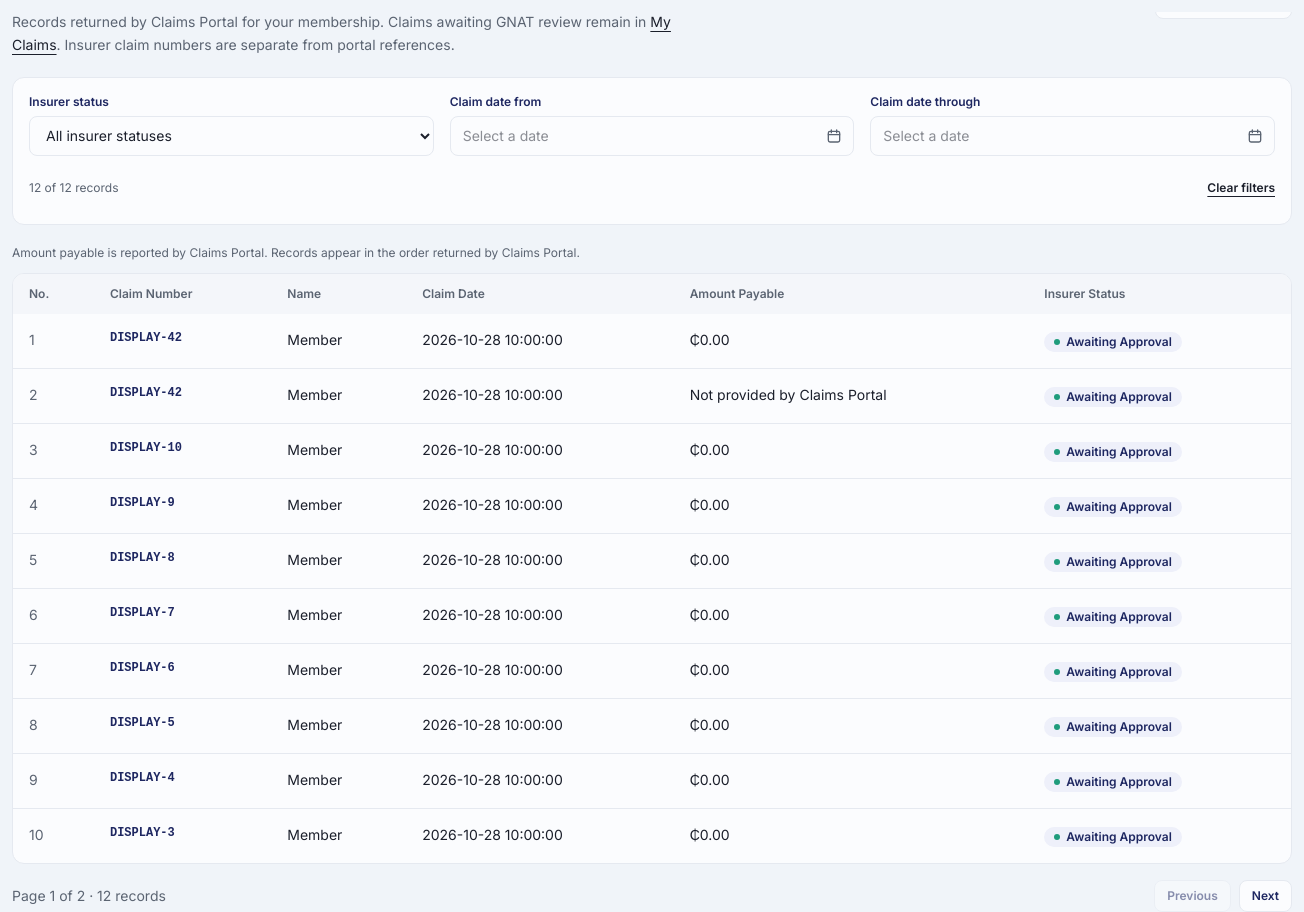
keeps provider ordering, repeated records, zero and null amounts, and numbers across pages
(page scrolled)
Expected: the number of column headings "DISPLAY-42" is 2, [94,314,271,368]; [94,368,271,423]
Expected: the 1st text "₵0.00" is shown, [674,314,1028,368]
Click the button "Next": coordinates (1265, 896) [1239,880,1292,911]
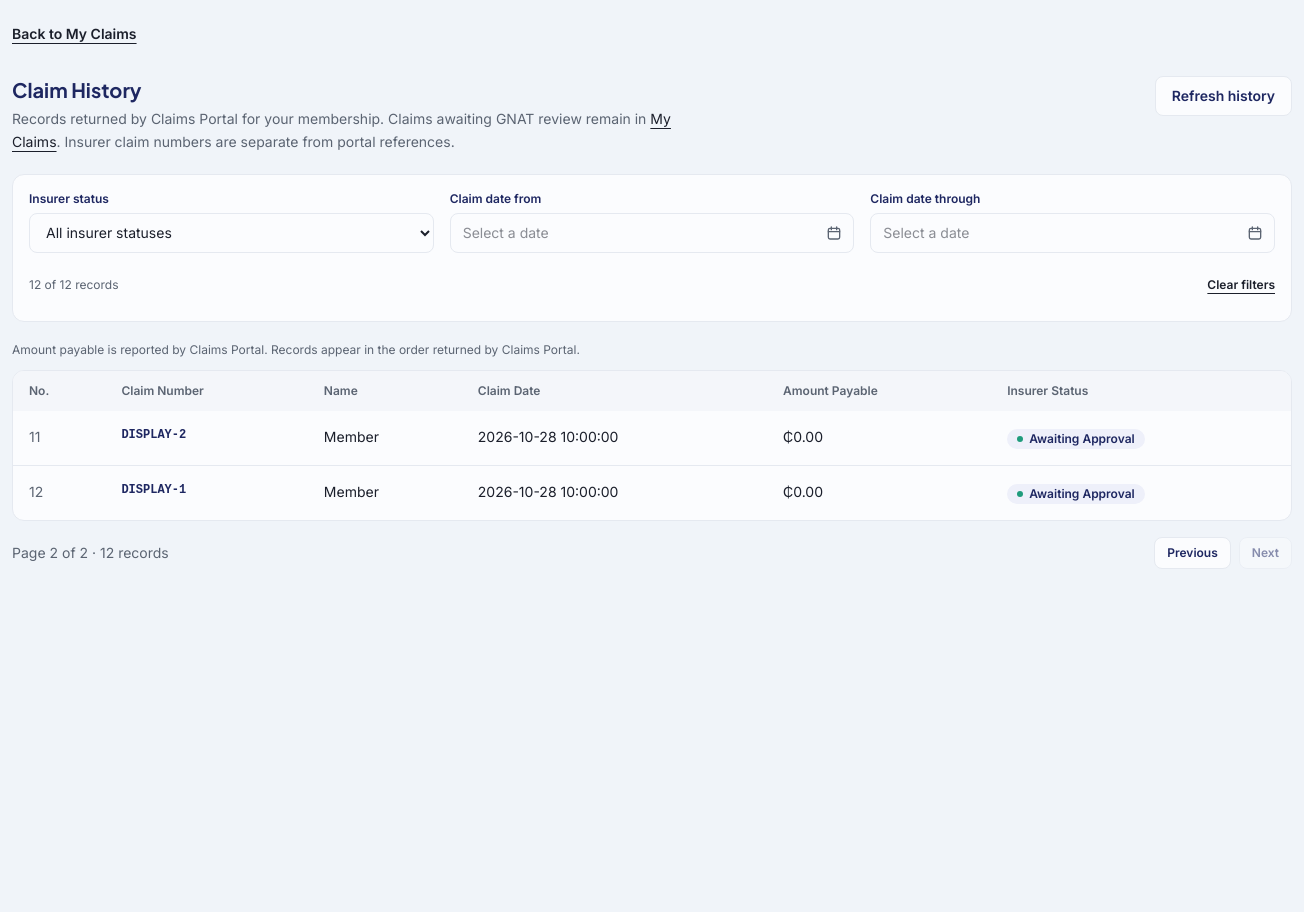
Expected: the number of rows is 3, [13,370,1291,410]; [13,410,1291,465]; [13,465,1291,520]
Expected: the cell "11" is shown, [13,410,105,465]
Expected: the column heading "DISPLAY-2" is shown, [105,410,308,465]
